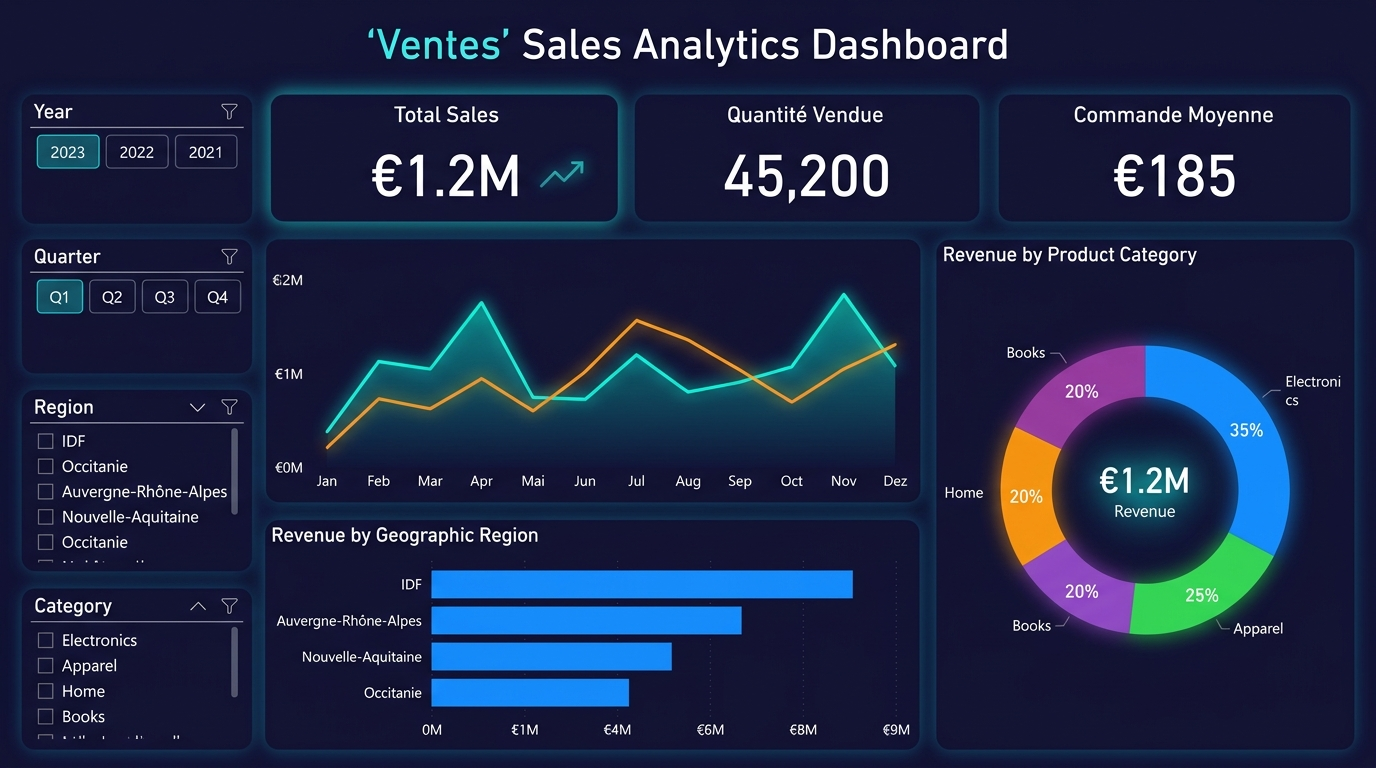

The dashboard page shown, as its layout file describes it:
{"tool":"powerbi","page":{"name":"Ventes","canvas":[1280,2000],"ordinal":0},"visuals":[{"type":"shape","box":[0,0,86.5,1450.2],"z":0},{"type":"shape","box":[117.3,9.4,1163.2,71.5],"z":1000},{"type":"shape","box":[1527,158.2,386.8,223.5],"z":2000},{"type":"shape","box":[117.6,676.7,551,307.8],"z":3000},{"type":"shape","box":[126.7,1027.6,1127.8,422.3],"z":4000},{"type":"shape","box":[718.2,676.7,551,307.8],"z":5000},{"type":"textbox","box":[117.3,21.9,261.2,46.9],"z":6000},{"type":"cardVisual","fields":{"Data":["client.Nombre de commande","client.Total Ventes","client.Quantité vendue","client.Commande moyenne"]},"box":[106.4,92.3,1163.7,178.3],"z":7000},{"type":"shape","box":[106.4,287.8,1173.1,362.9],"z":8000},{"type":"lineChart","title":"Evolution du chiffre d''affaires et de la quantité vendue","fields":{"Category":["vente.OrderDate.Variation.Hiérarchie de dates.Année","vente.OrderDate.Variation.Hiérarchie de dates.Trimestre","vente.OrderDate.Variation.Hiérarchie de dates.Mois"],"Y":["Sum(vente.TotalPrice)"],"Y2":["Sum(vente.Quantity)"]},"box":[115.7,294.1,1141.8,348.8],"z":9000},{"type":"barChart","title":"Chiffre d''affaires par région","fields":{"Category":["region.RegionName"],"Y":["Sum(vente.Quantity)"]},"box":[117.3,696,522.4,289.4],"z":10000},{"type":"donutChart","title":"Chiffre d''affaires par catégories de produits","fields":{"Category":["produit.Category"],"Y":["Sum(vente.Quantity)"]},"box":[732,685.1,522.4,289.4],"z":11000},{"type":"tableEx","fields":{"Values":["vente.Id order","vente.OrderDate","client.CompanyName","Mesure.Quantité vendue","Mesure.Total Ventes","vente.OrderStatus"]},"box":[331.6,1063.6,872.8,370.7],"z":12000},{"type":"slicer","fields":{"Values":["region.RegionName"]},"box":[392.6,17.2,264.3,54.7],"z":13000},{"type":"slicer","fields":{"Values":["vente.OrderStatus"]},"box":[699.2,17.2,261.2,57.9],"z":14000},{"type":"slicer","fields":{"Values":["vente.OrderDate"]},"box":[993.2,4.7,275.3,76.6],"z":15000},{"type":"image","box":[7.8,107.9,70.4,73.5],"z":16000},{"type":"shape","box":[0,10.9,78.2,81.3],"z":18000},{"type":"image","box":[0,10.9,73.5,81.3],"z":18500}]}

Visuals, with their boxes on the page's 1280x2000 design canvas (x1, y1, x2, y2). These are canvas units, not pixel positions in the 1376x768 screenshot, which may show the page scaled, cropped or inside an application window:
shape: <region>0, 0, 86, 1450</region>
shape: <region>117, 9, 1280, 81</region>
shape: <region>1527, 158, 1914, 382</region>
shape: <region>118, 677, 669, 984</region>
shape: <region>127, 1028, 1254, 1450</region>
shape: <region>718, 677, 1269, 984</region>
textbox: <region>117, 22, 378, 69</region>
cardVisual - client.Nombre de commande x client.Total Ventes: <region>106, 92, 1270, 271</region>
shape: <region>106, 288, 1280, 651</region>
"Evolution du chiffre d''affaires et de la quantité vendue" lineChart: <region>116, 294, 1258, 643</region>
"Chiffre d''affaires par région" barChart: <region>117, 696, 640, 985</region>
"Chiffre d''affaires par catégories de produits" donutChart: <region>732, 685, 1254, 974</region>
tableEx - vente.Id order x vente.OrderDate: <region>332, 1064, 1204, 1434</region>
slicer - region.RegionName: <region>393, 17, 657, 72</region>
slicer - vente.OrderStatus: <region>699, 17, 960, 75</region>
slicer - vente.OrderDate: <region>993, 5, 1268, 81</region>
image: <region>8, 108, 78, 181</region>
shape: <region>0, 11, 78, 92</region>
image: <region>0, 11, 74, 92</region>
